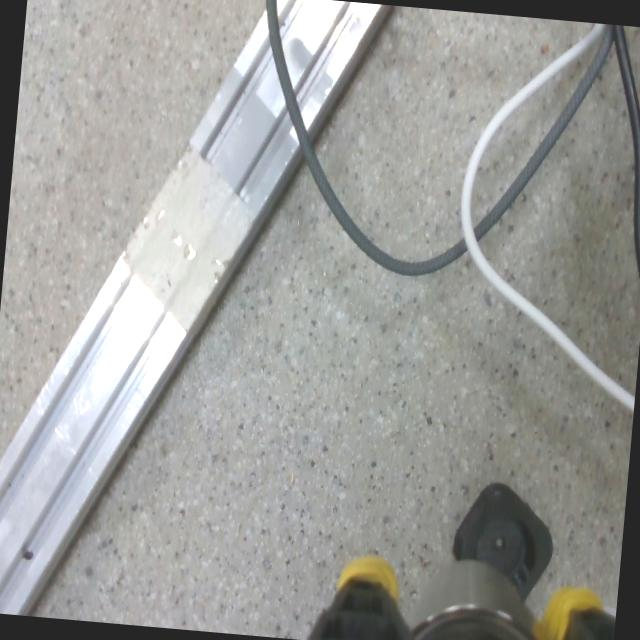cell: (444, 478, 558, 602)
